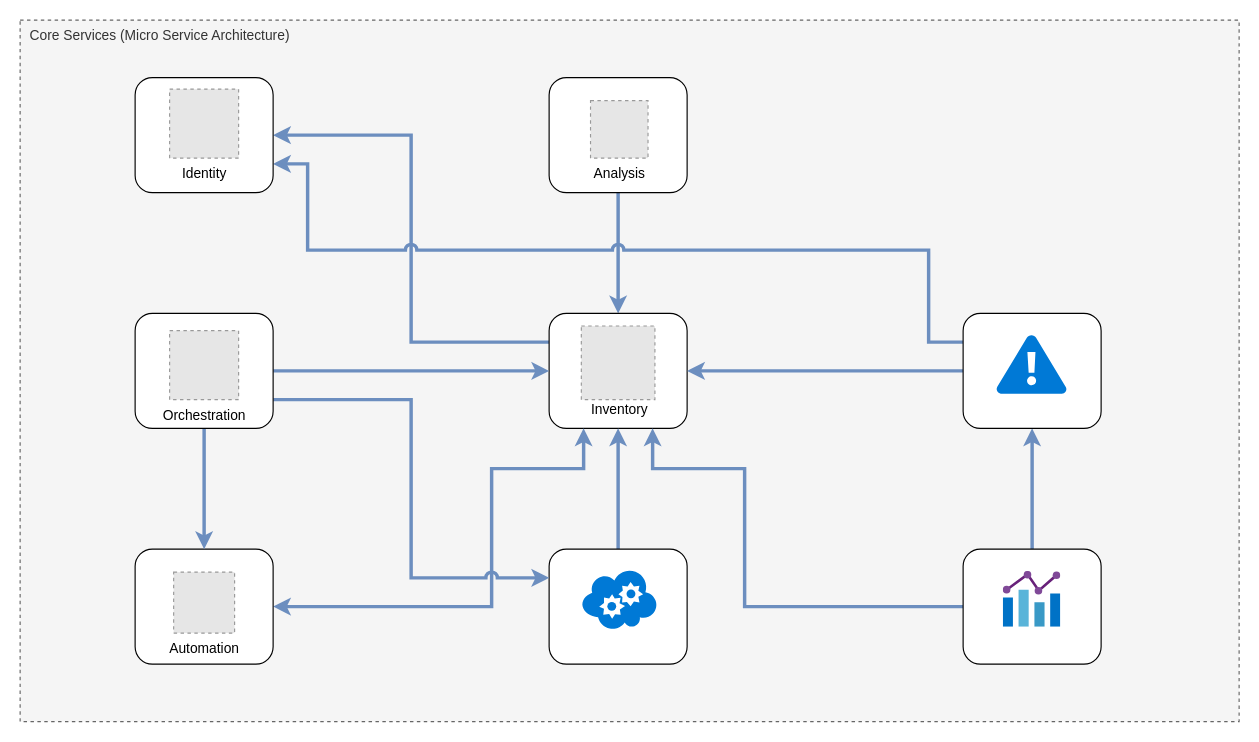
Image size: 1259x742. Some labels were removed from this diagram. Grey dashed boxes stand in for pictures. The shapes that lost their labels are listed below. From the top down, each one's centre as x and y in pixels, then its label:
At (1031,364): "Incident".
At (619,598): "Plugin".
At (1031,599): "Monitoring".
